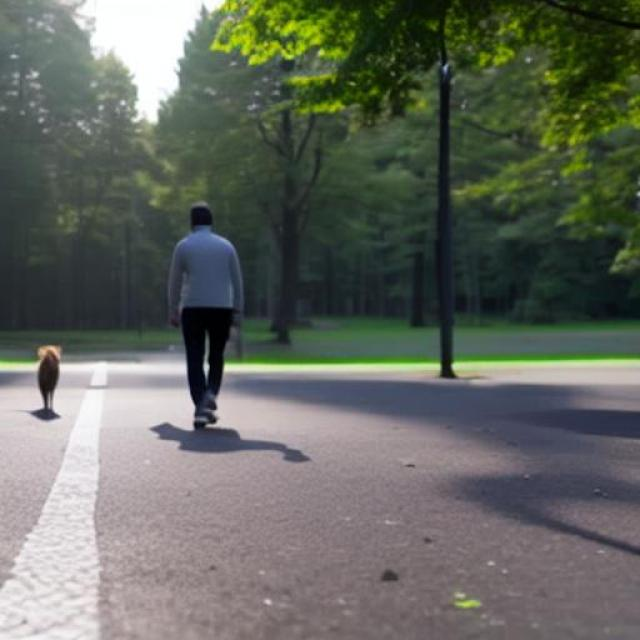Unleashed_Dog: (36, 307, 233, 418)
